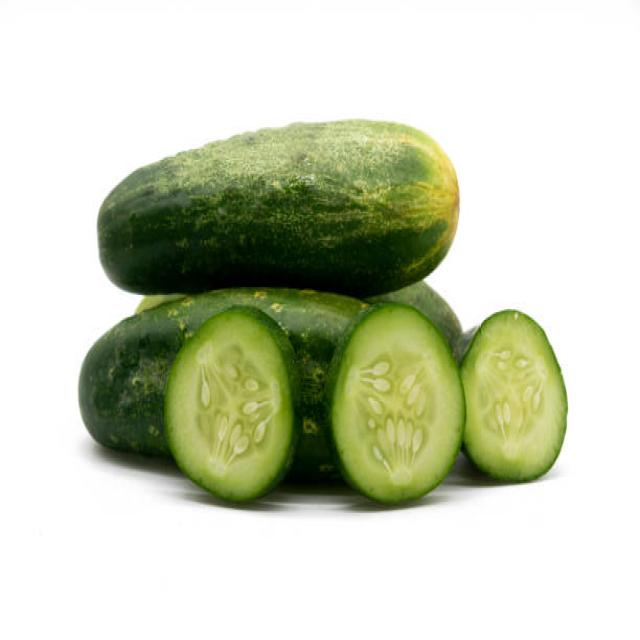cucumber: (96, 117, 459, 294), (78, 286, 387, 486)
